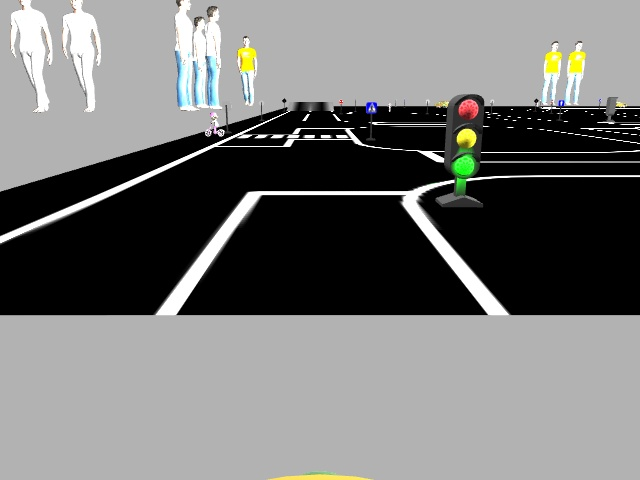Crosswalk: (366, 101, 376, 113)
Pedestrian: (203, 111, 224, 136)
TrafficLight: (442, 95, 486, 177)
